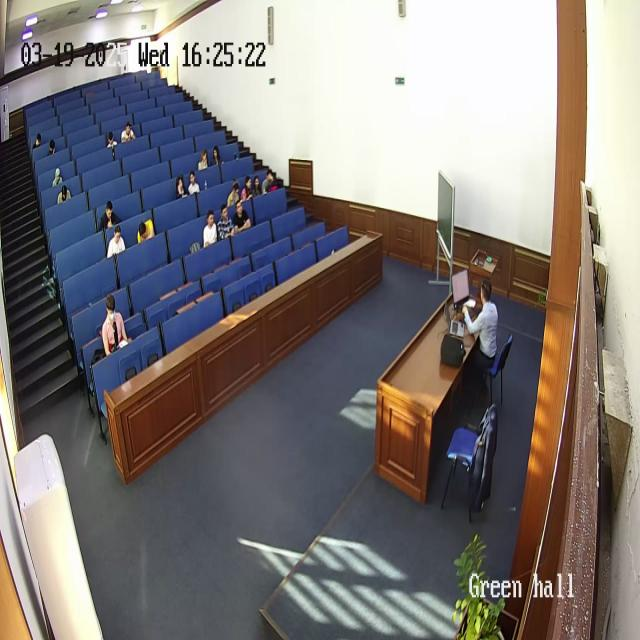person: (461, 278, 499, 388), (100, 294, 130, 356), (106, 224, 126, 260), (232, 199, 252, 235), (217, 203, 235, 241), (202, 208, 219, 248), (98, 200, 118, 234), (137, 217, 155, 243), (238, 177, 254, 203), (227, 180, 241, 207), (263, 170, 278, 193), (175, 174, 188, 198), (187, 170, 199, 196), (121, 121, 135, 143), (197, 148, 209, 172), (57, 184, 71, 204), (251, 174, 263, 197), (210, 144, 222, 165), (52, 166, 64, 187), (106, 132, 118, 152), (32, 134, 42, 150), (48, 138, 56, 156)
